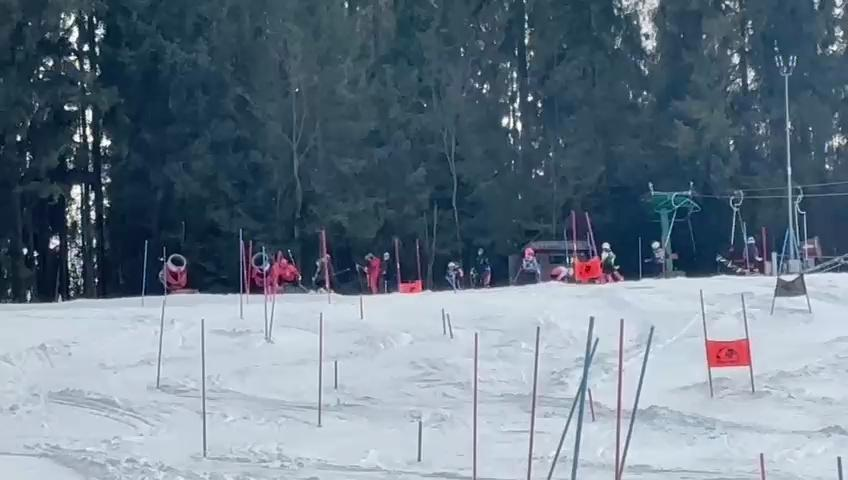gate: (543, 325, 602, 478), (624, 322, 672, 480), (681, 283, 719, 400), (572, 307, 596, 480), (192, 316, 217, 455), (525, 320, 546, 480), (613, 314, 632, 480), (468, 330, 485, 480), (268, 250, 294, 347), (765, 224, 790, 321), (738, 280, 760, 389), (583, 210, 611, 291), (790, 237, 818, 313), (318, 230, 340, 303), (564, 204, 582, 290), (317, 304, 329, 432), (135, 235, 152, 305), (391, 234, 409, 297), (157, 294, 166, 397), (411, 243, 427, 296), (410, 420, 429, 464), (436, 309, 457, 340), (162, 250, 175, 298), (332, 348, 343, 397), (753, 450, 768, 480), (350, 296, 365, 318), (833, 451, 843, 480)
